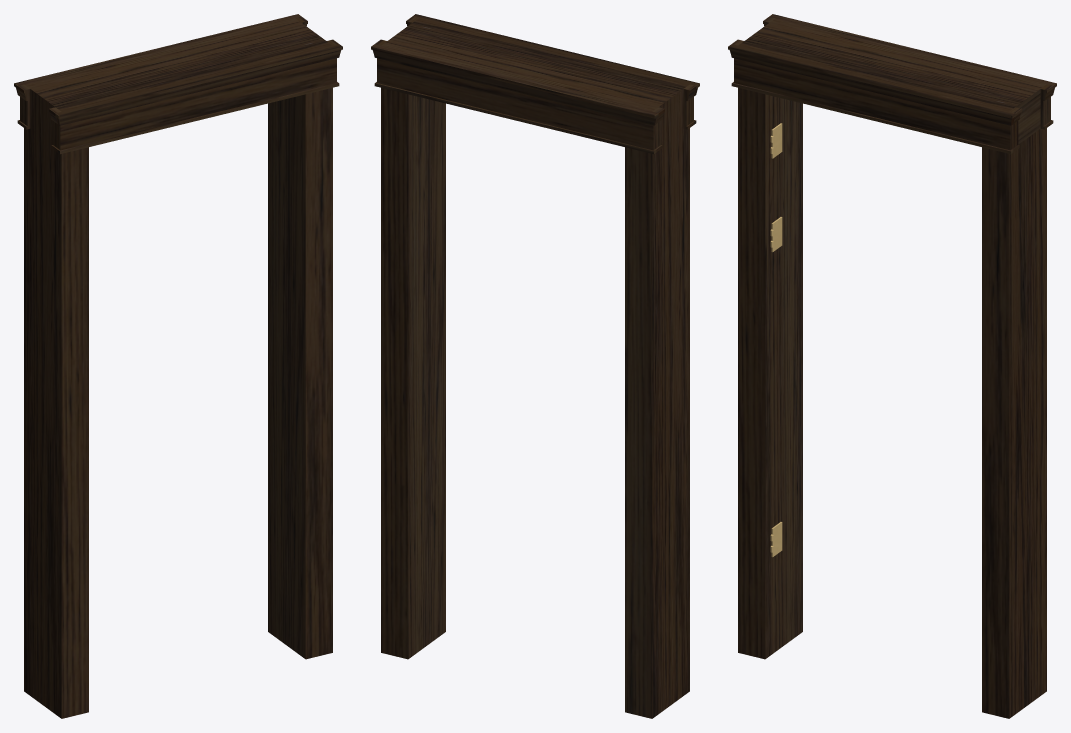
Rendered from DoorFrame.fbx.
3 views of the same model, side by side, from view 1: azimuth 30°, elevation 25°; view 2: azimuth 150°, elevation 25°; view 3: azimuth 330°, elevation 25° (orthographic).
Parts seen in each view (by area): view 1: DoorFrame_Baked; view 2: DoorFrame_Baked; view 3: DoorFrame_Baked.
Part boxes in pixels (<box>): DoorFrame_Baked: <box>14,14,342,718</box>; DoorFrame_Baked: <box>371,14,699,718</box>; DoorFrame_Baked: <box>728,14,1056,718</box>.
Size of the model in its own units: 105 by 214 by 28.54.
